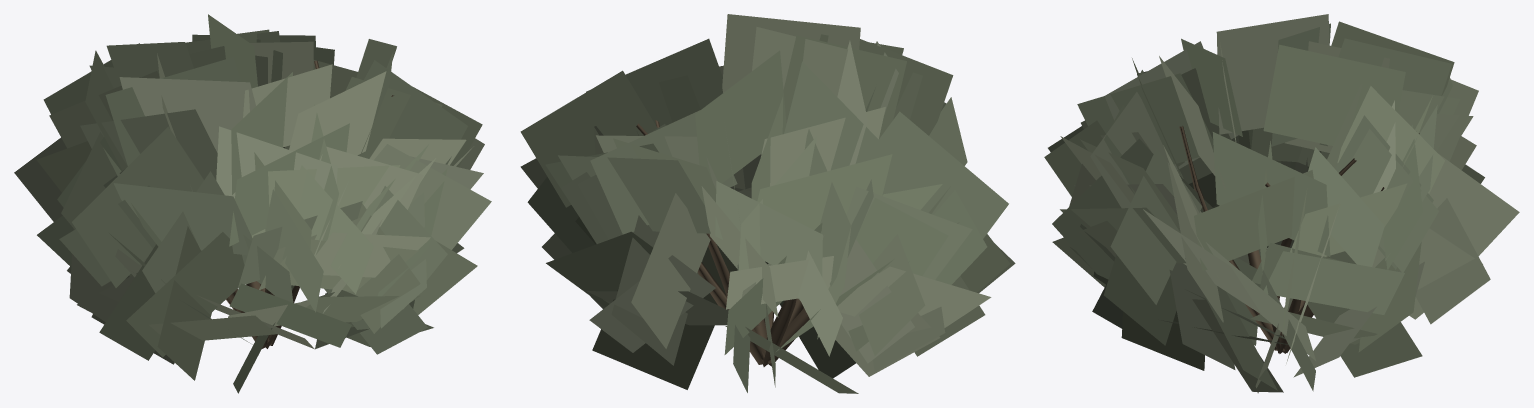
The model's file is shrub.sagebrush.grey.glb.
3 renders of one model, left to right at view 1: azimuth 30°, elevation 25°; view 2: azimuth 150°, elevation 25°; view 3: azimuth 270°, elevation 25°, orthographic. The views are drawn at different scales.
Visible parts, largest first — view 1: shrub_sagebrush_grey; view 2: shrub_sagebrush_grey; view 3: shrub_sagebrush_grey.
Boxes of the visible parts, x1,y1,x2,y2 form: shrub_sagebrush_grey: [14, 14, 491, 393]; shrub_sagebrush_grey: [520, 14, 1015, 393]; shrub_sagebrush_grey: [1044, 14, 1519, 393].
Size of what is drawn, in the model's own units: 1.78 by 1.24 by 1.68.
